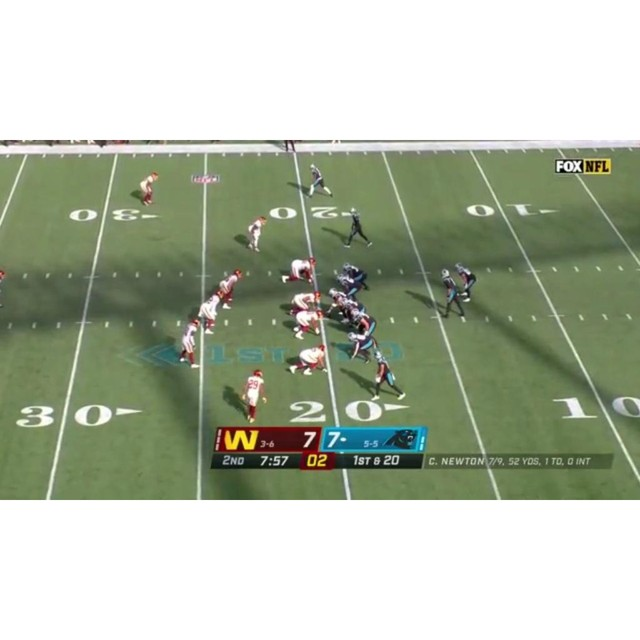american-football-player: (371, 350, 405, 400), (439, 269, 466, 320), (199, 288, 228, 335), (288, 344, 328, 376), (344, 206, 373, 249), (243, 369, 266, 423), (179, 317, 201, 368), (281, 257, 317, 287), (290, 308, 322, 340), (326, 288, 355, 323), (219, 268, 243, 310), (283, 292, 322, 316), (454, 263, 477, 302), (348, 331, 375, 364), (307, 164, 333, 198), (349, 308, 377, 339), (342, 261, 368, 289), (247, 215, 266, 252), (139, 172, 158, 206)
